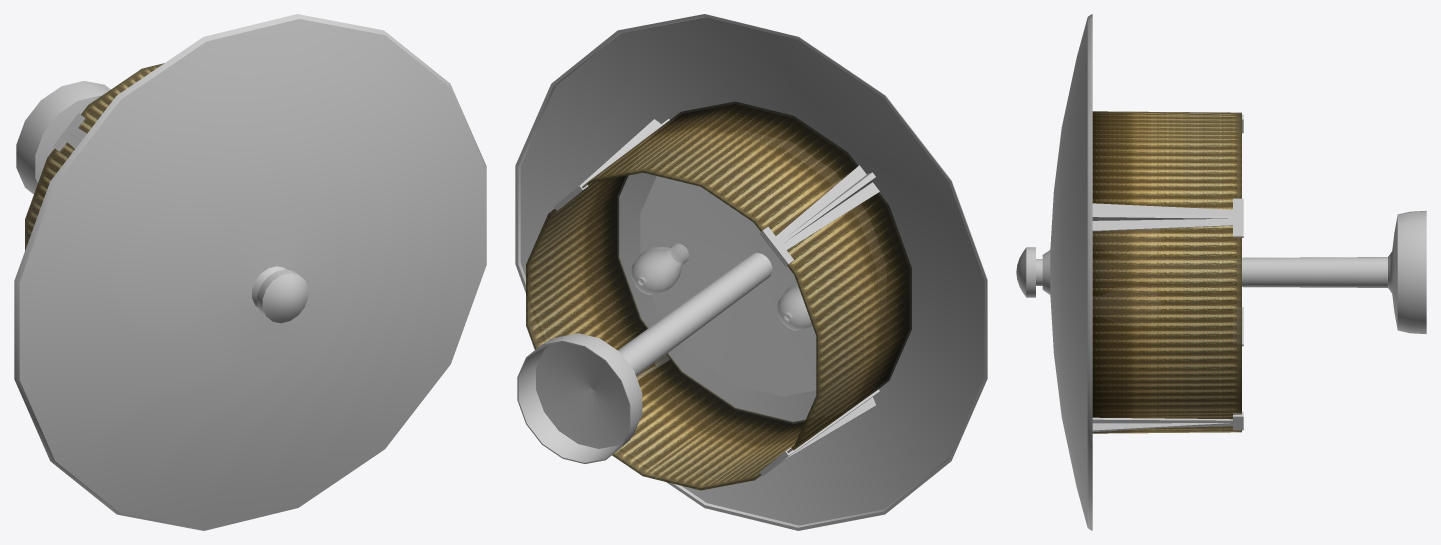
Rendered from RSL.obj.
The picture shows the model from 3 angles, left to right: view 1: azimuth 30°, elevation 25°; view 2: azimuth 150°, elevation 25°; view 3: azimuth 270°, elevation 25°; orthographic projection. The views are drawn at different scales.
Parts seen in each view (by area): view 1: RSL_BezierCurve.003; view 2: RSL_BezierCurve.003; view 3: RSL_BezierCurve.003.
Part boxes in pixels (x1,y1,x2,y2): RSL_BezierCurve.003: (14, 14, 486, 530); RSL_BezierCurve.003: (515, 14, 987, 530); RSL_BezierCurve.003: (1016, 14, 1426, 530).
Bounding box in the file's own units: 0.7616 × 0.7616 × 0.6094.
